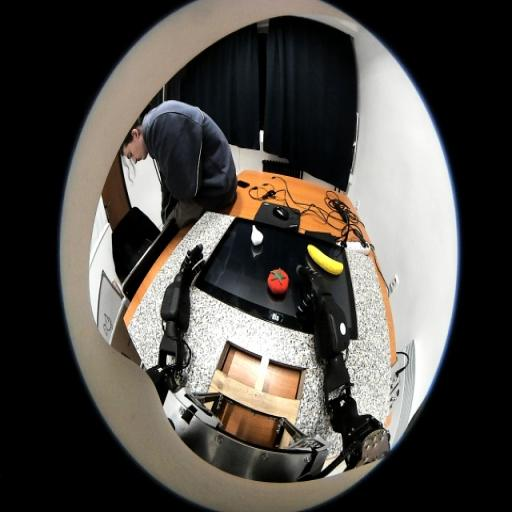Banana: (307, 244, 344, 275)
LeftHand: (180, 260, 194, 281)
Onion: (252, 225, 264, 245)
RightHand: (310, 277, 329, 294)
Tomato: (267, 267, 289, 294)
